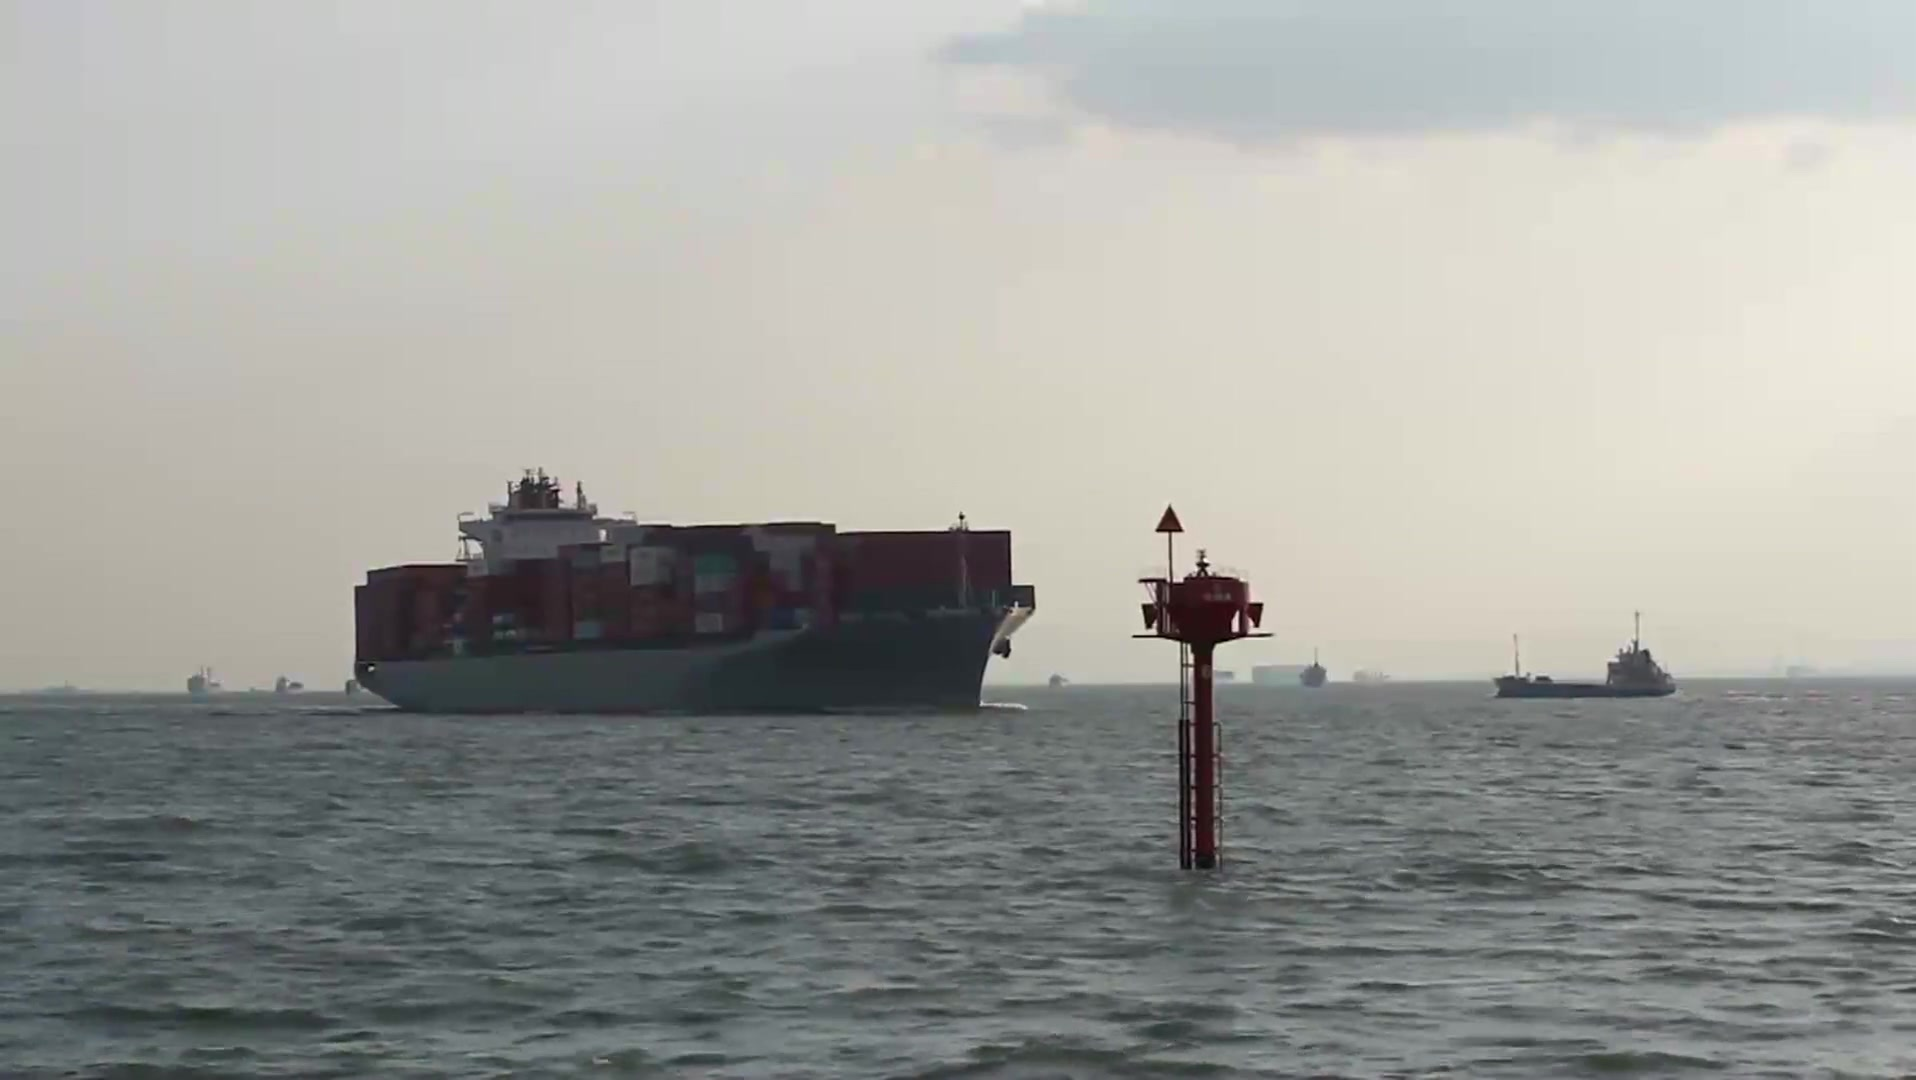boat: (349, 460, 1041, 721), (1488, 602, 1680, 705), (1246, 649, 1330, 699), (176, 666, 239, 704), (272, 670, 315, 701)
